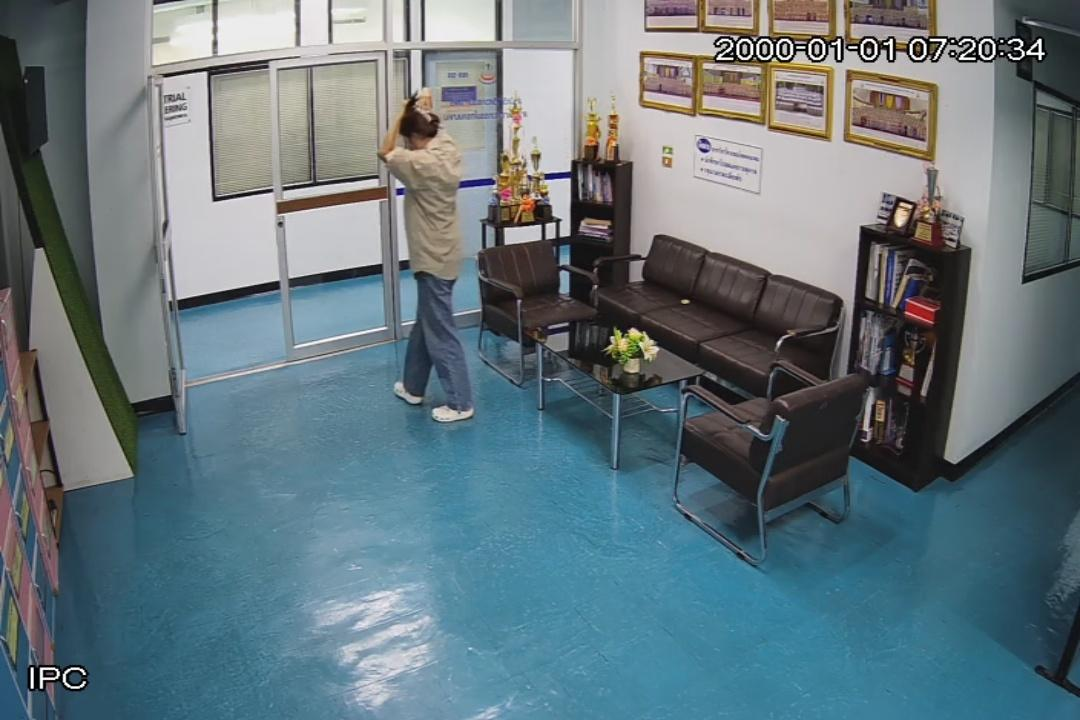normal: (378, 94, 477, 425)
